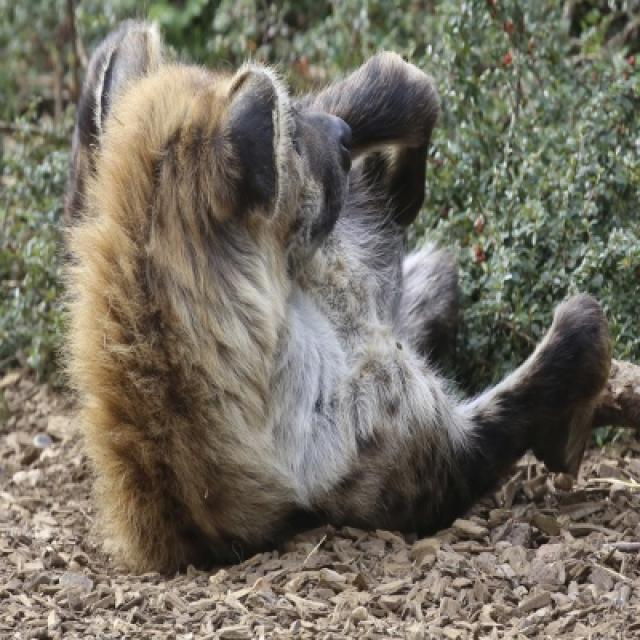hyena: (64, 24, 614, 581)
